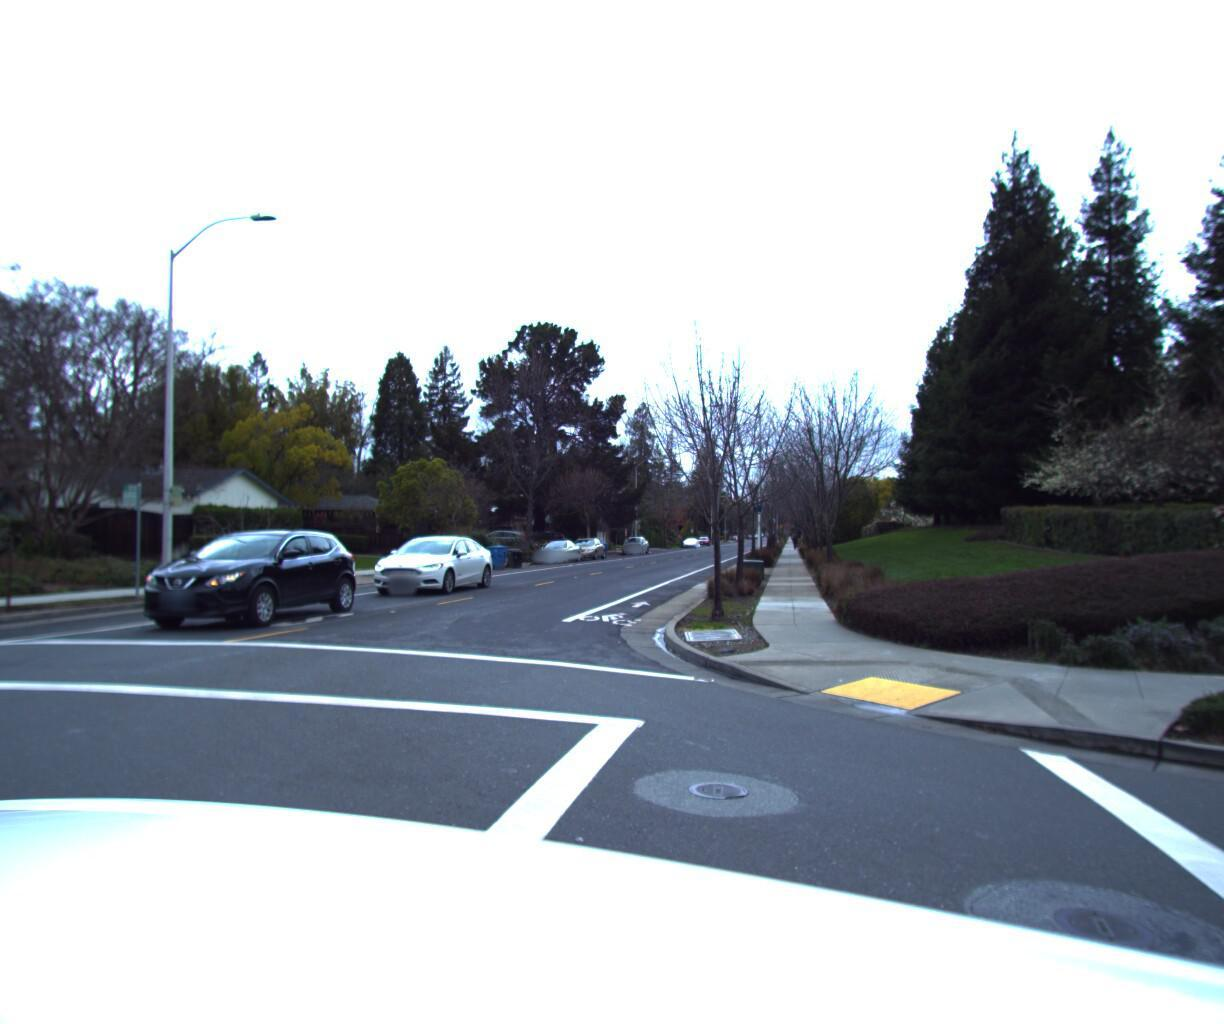car: (120, 526, 365, 636), (365, 530, 501, 598), (533, 541, 583, 568), (566, 539, 610, 563), (619, 538, 651, 557)
